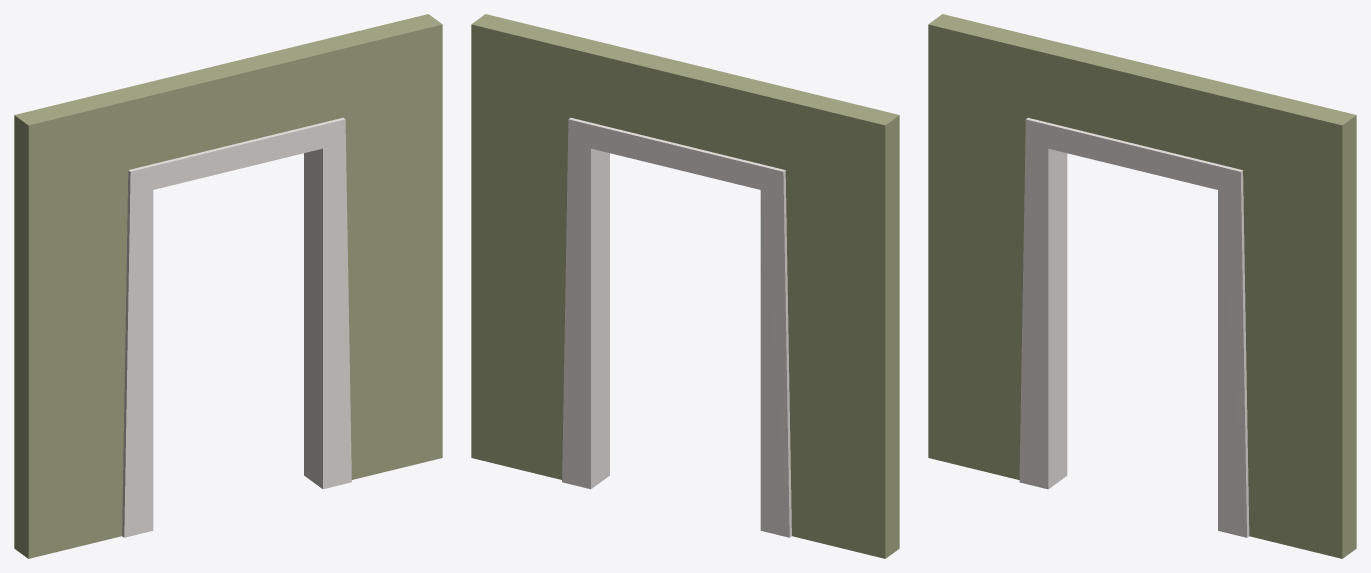
File: Wall_07.fbx
3 renders of one model, left to right at view 1: azimuth 30°, elevation 25°; view 2: azimuth 150°, elevation 25°; view 3: azimuth 330°, elevation 25°, orthographic.
Visible parts, largest first — view 1: Wall_07; view 2: Wall_07; view 3: Wall_07.
Boxes of the visible parts, x1,y1,x2,y2 form: Wall_07: [14, 14, 442, 558]; Wall_07: [471, 14, 899, 558]; Wall_07: [928, 14, 1356, 558].
Size of the model in its own units: 259 by 259 by 20.37.
